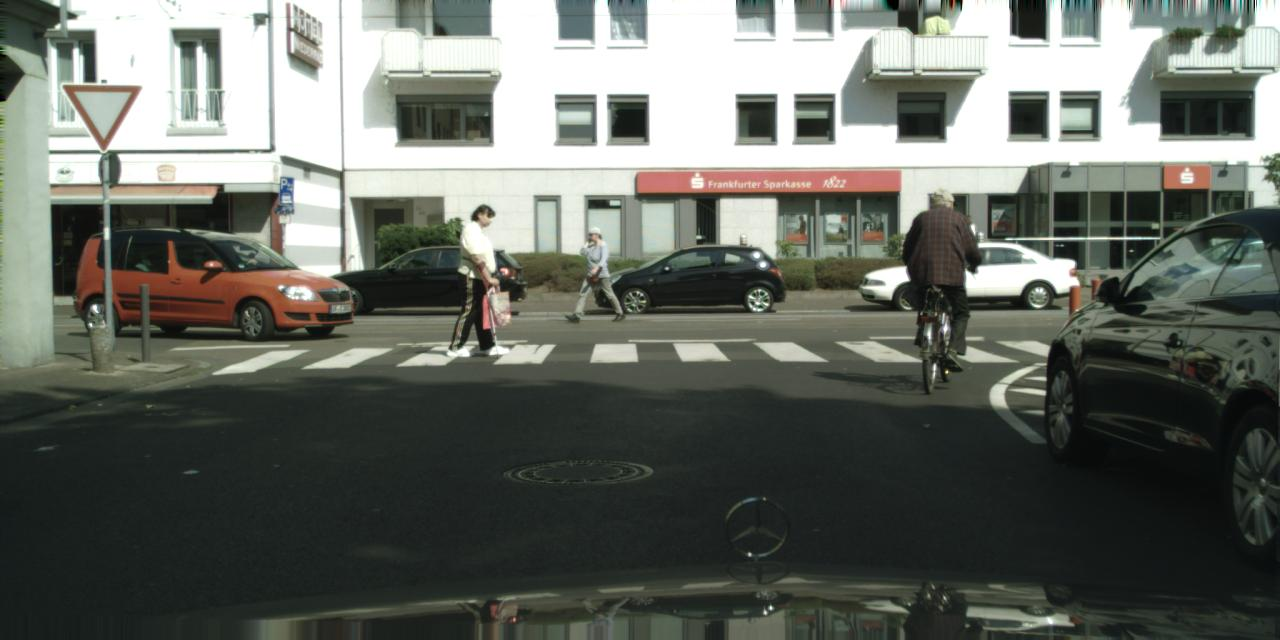ped: (902, 187, 970, 354), (449, 203, 511, 355), (576, 227, 614, 321)
